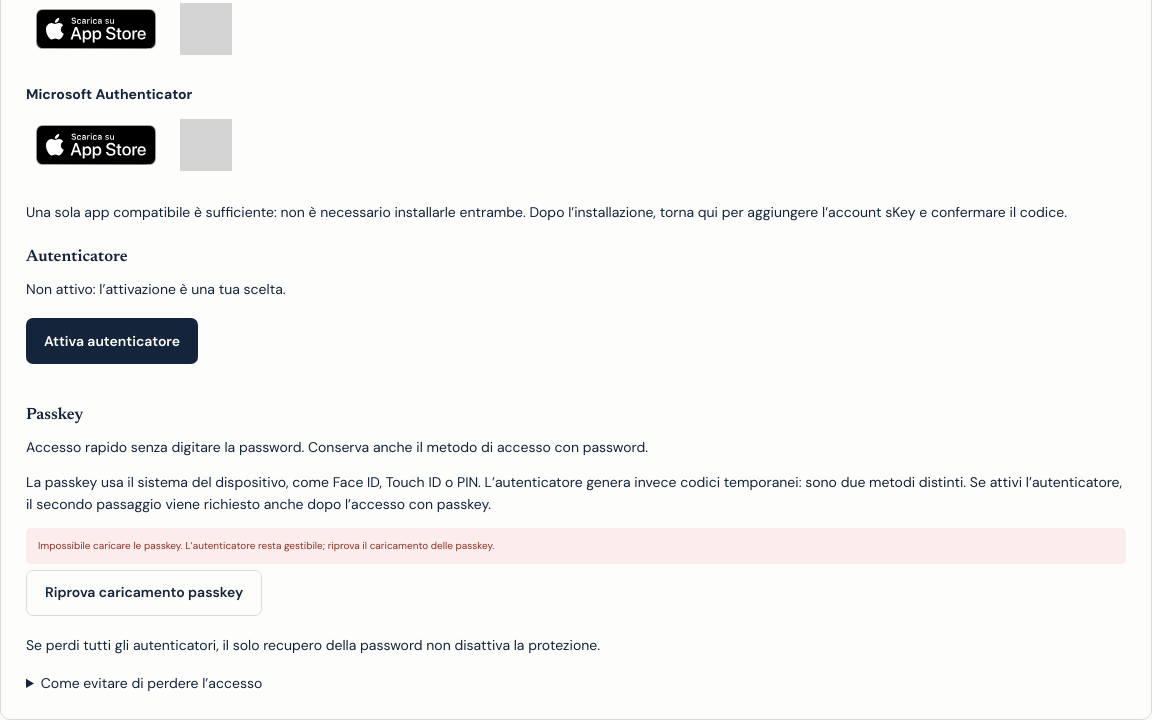
optional authenticator settings › reloads passkeys after a temporary failure without changing authenticators
The width and height of the screenshot is (1152, 720).
(page scrolled)
Click the button "Riprova caricamento passkey": (144, 593) left=26, top=570, right=262, bottom=616
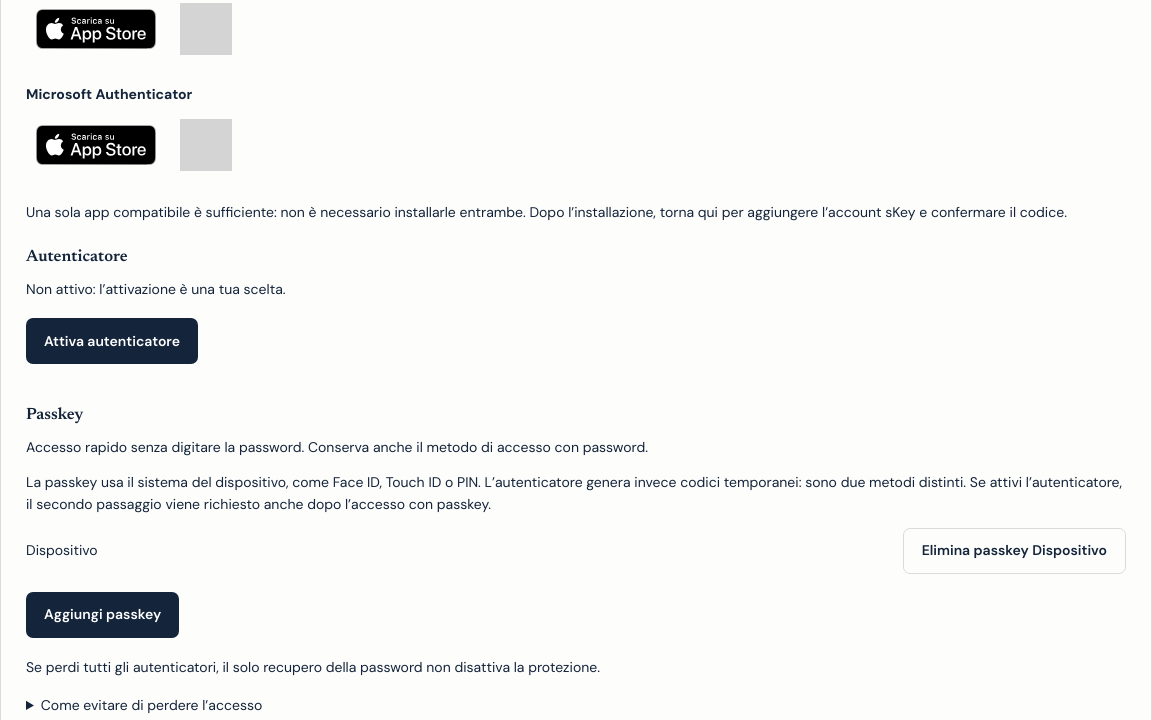
Check: the text "Dispositivo" is shown, box left=26, top=540, right=98, bottom=562
